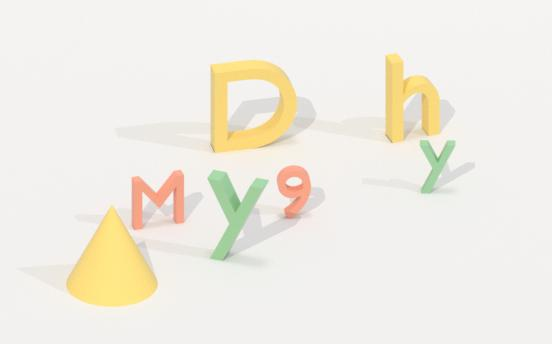9: (277, 165, 316, 221)
M-hoa: (126, 168, 186, 229)
Y: (200, 168, 267, 263), (413, 135, 458, 198)
d: (203, 62, 303, 152)
h: (378, 52, 450, 145)
non: (61, 214, 163, 307)
